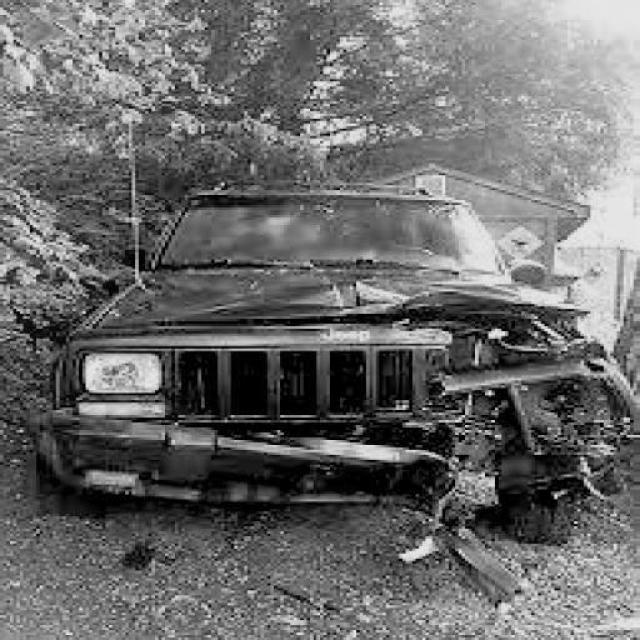car damage: (214, 264, 640, 617)
